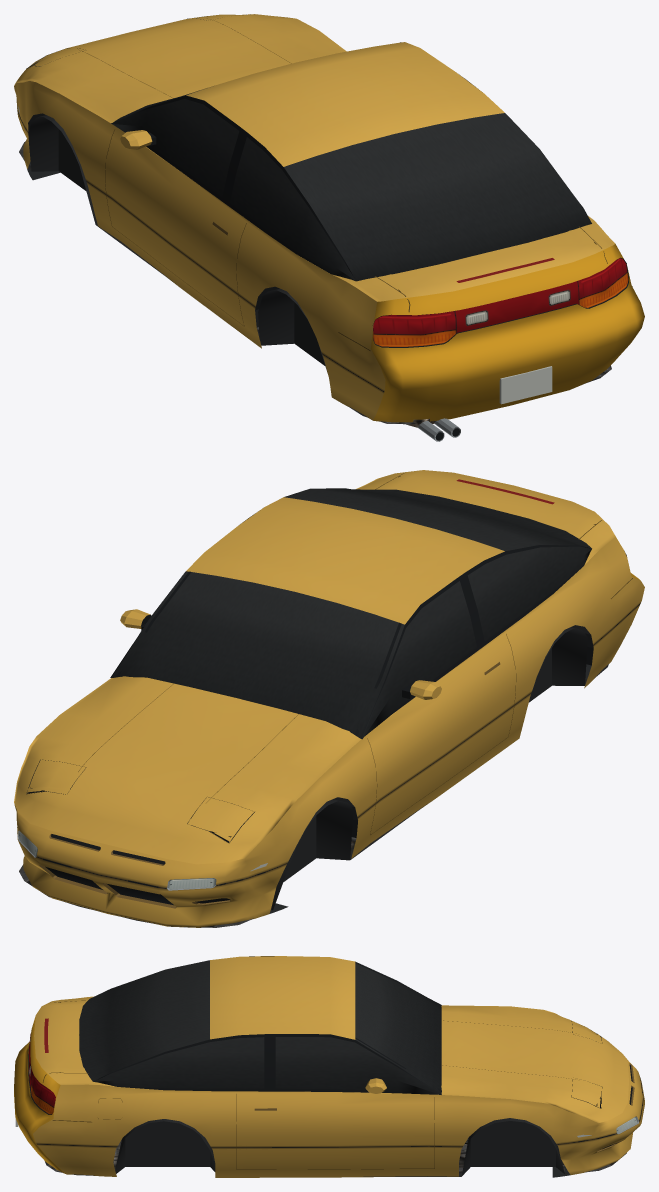
Rendered from nissan_180sx.obj.
The picture shows the model from 3 angles, top to bottom: view 1: azimuth 30°, elevation 25°; view 2: azimuth 150°, elevation 25°; view 3: azimuth 270°, elevation 25°; orthographic projection. The views are drawn at different scales.
Parts seen in each view (by area): view 1: nissan_180sx; view 2: nissan_180sx; view 3: nissan_180sx.
Boxes of the visible parts, box(x1,y1,x2,y2) form: nissan_180sx: box(14, 14, 644, 441); nissan_180sx: box(14, 470, 644, 927); nissan_180sx: box(14, 956, 644, 1177).
Size of the model in its own units: 1.89 by 1.16 by 4.52.
1 material, 1 textured.
